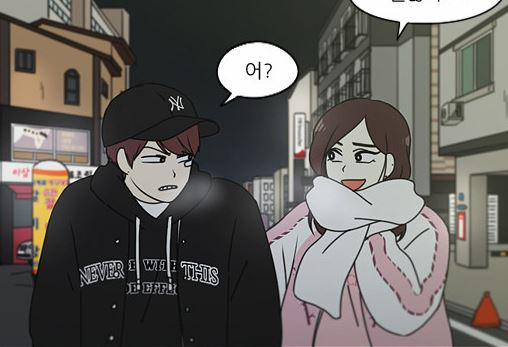hat: (98, 81, 222, 148)
